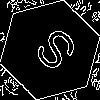S: (25, 25, 81, 81)
